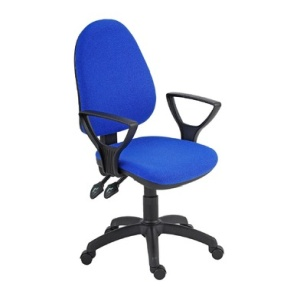chair: (73, 19, 225, 280)
